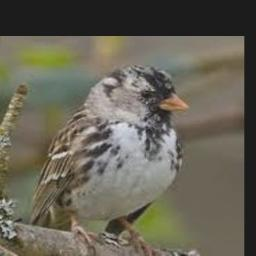Sparrow: (28, 65, 189, 256)
